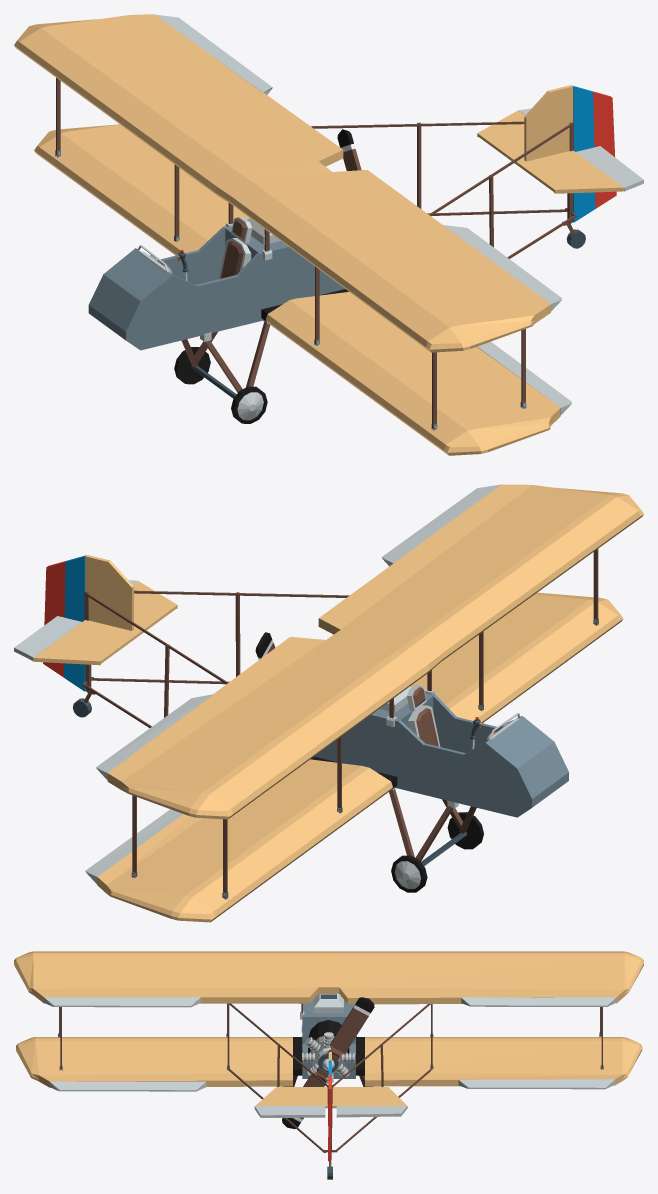
Rendered from AIRCO DH2 v2.glb.
3 renders of one model, top to bottom at view 1: azimuth 30°, elevation 25°; view 2: azimuth 150°, elevation 25°; view 3: azimuth 270°, elevation 25°, orthographic. The views are drawn at different scales.
Visible parts, largest first — view 1: group698876567, group1802364079, group189737053, group1716274007, group900679359, group320067917, group499944981, group1181672070, group1092611997, group1865082088, group507084870, group1418262418 (+9 smaller); view 2: group1802364079, group698876567, group1716274007, group189737053, group900679359, group507084870, group499944981, group1181672070, group1092611997, group1865082088, group320067917, group163444437 (+9 smaller); view 3: group1802364079, group698876567, group189737053, group1716274007, group499944981, group1441461533, group682649018, group163444437, group15510366, group761413090, group1181672070, group1418262418 (+6 smaller).
Part boxes in pixels (left/top/right/bottom): group698876567: left=231, top=170, right=550, bottom=352; group1802364079: left=14, top=14, right=343, bottom=194; group189737053: left=266, top=292, right=560, bottom=455; group1716274007: left=34, top=124, right=249, bottom=255; group900679359: left=88, top=248, right=172, bottom=350; group320067917: left=171, top=252, right=260, bottom=337; group499944981: left=477, top=110, right=623, bottom=193; group1181672070: left=223, top=226, right=344, bottom=321; group1092611997: left=572, top=85, right=616, bottom=222; group1865082088: left=524, top=85, right=573, bottom=161; group507084870: left=157, top=227, right=225, bottom=284; group1418262418: left=215, top=161, right=331, bottom=204; group1802364079: left=107, top=637, right=429, bottom=819; group698876567: left=318, top=484, right=643, bottom=661; group1716274007: left=97, top=759, right=392, bottom=922; group189737053: left=410, top=592, right=623, bottom=723; group900679359: left=485, top=716, right=568, bottom=817; group507084870: left=398, top=720, right=485, bottom=809; group499944981: left=33, top=581, right=177, bottom=665; group1181672070: left=314, top=693, right=434, bottom=788; group1092611997: left=43, top=555, right=85, bottom=691; group1865082088: left=85, top=555, right=133, bottom=630; group320067917: left=433, top=694, right=521, bottom=752; group163444437: left=381, top=484, right=500, bottom=566; group1802364079: left=339, top=951, right=643, bottom=1004; group698876567: left=14, top=951, right=318, bottom=1003; group189737053: left=16, top=1037, right=292, bottom=1087; group1716274007: left=365, top=1037, right=642, bottom=1086; group499944981: left=255, top=1087, right=407, bottom=1108; group1441461533: left=282, top=997, right=374, bottom=1128; group682649018: left=49, top=1081, right=206, bottom=1091; group163444437: left=44, top=997, right=200, bottom=1007; group15510366: left=458, top=1079, right=615, bottom=1089; group761413090: left=461, top=997, right=616, bottom=1006; group1181672070: left=302, top=999, right=355, bottom=1078; group1418262418: left=318, top=951, right=339, bottom=993.
Size of the model in its own units: 5.53 by 2.41 by 8.21.
